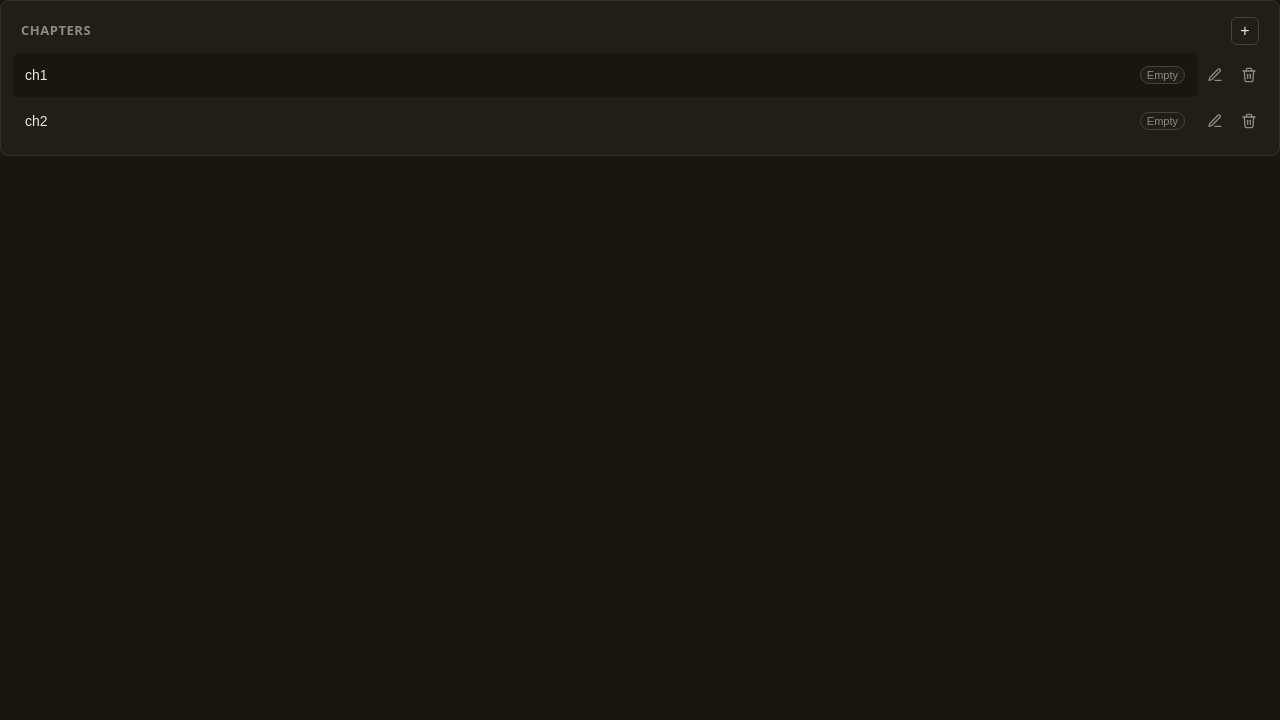
it: ChapterRail › warns about downstream deletion and can cancel
Step 1. Click the button named "Delete chapter ch1" → (1249, 75), box [1233,59,1265,91]
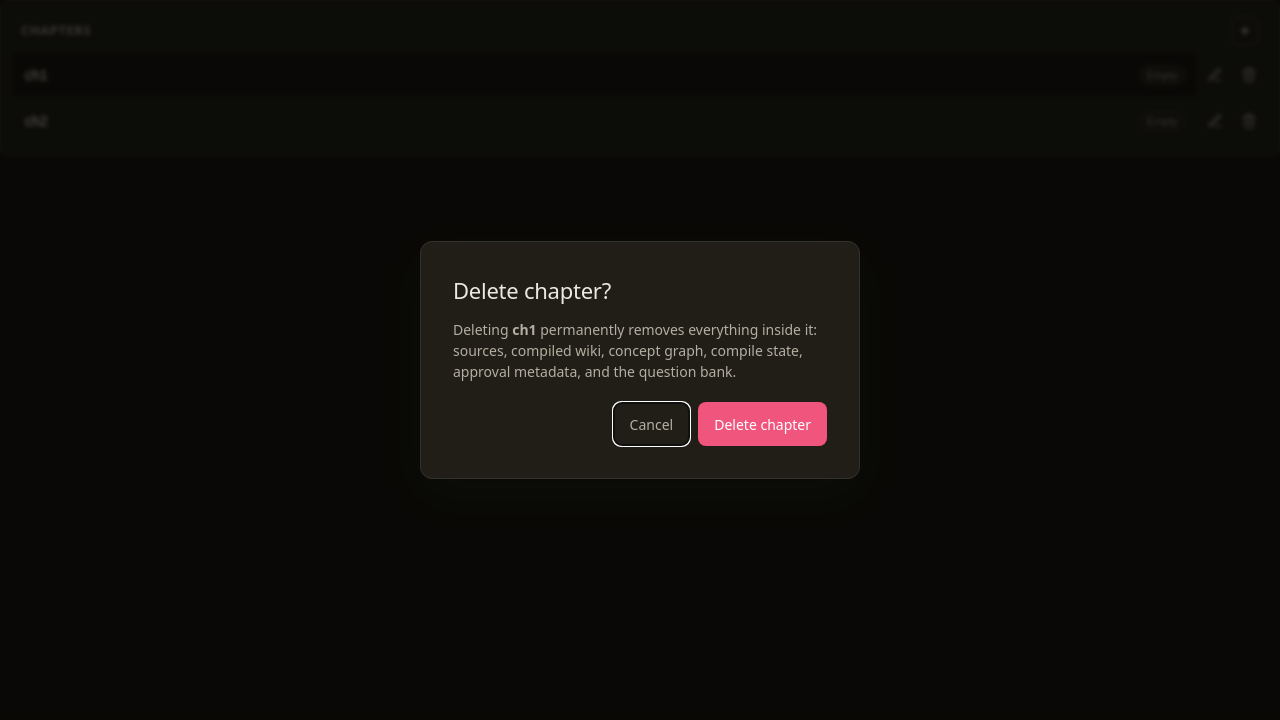
Check: the dialog "Delete chapter?" is shown, box [420,241,860,479]
Check: the text "question bank" is shown, box [453,320,817,381]
Step 2. Click the button "Cancel" → (651, 424), box [613,402,690,446]
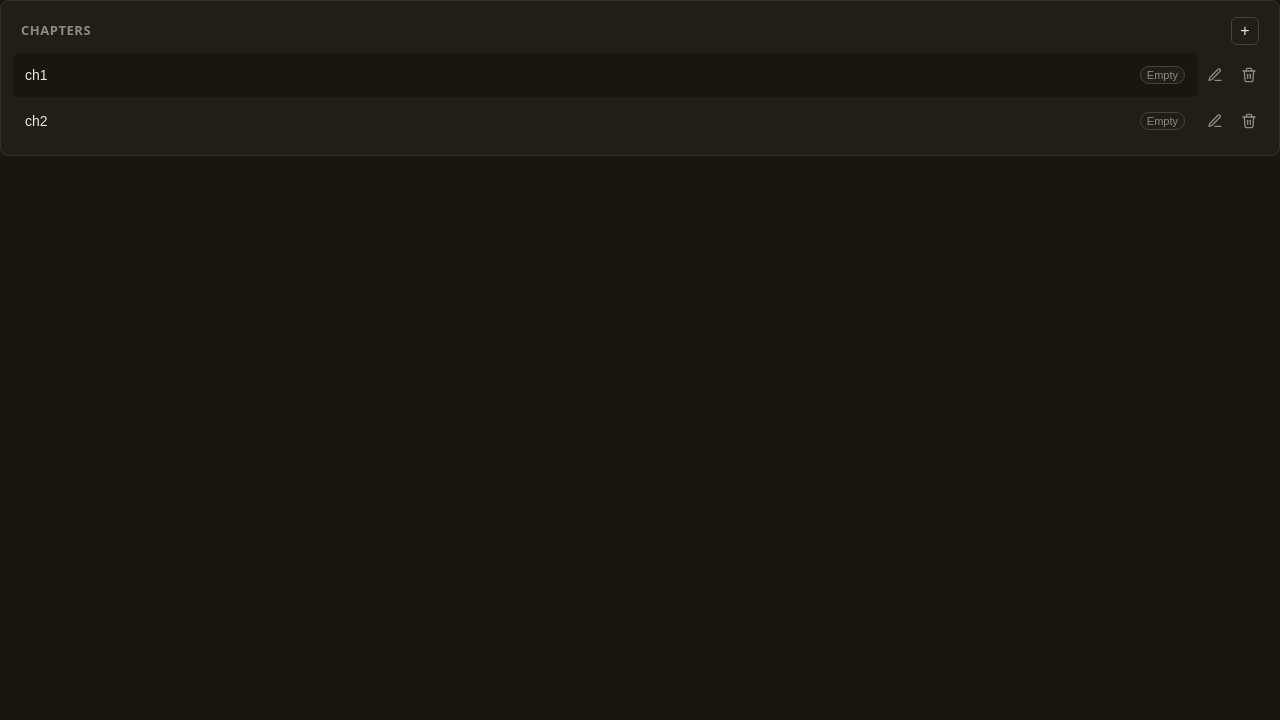
Check: the heading "Delete chapter?" is gone
